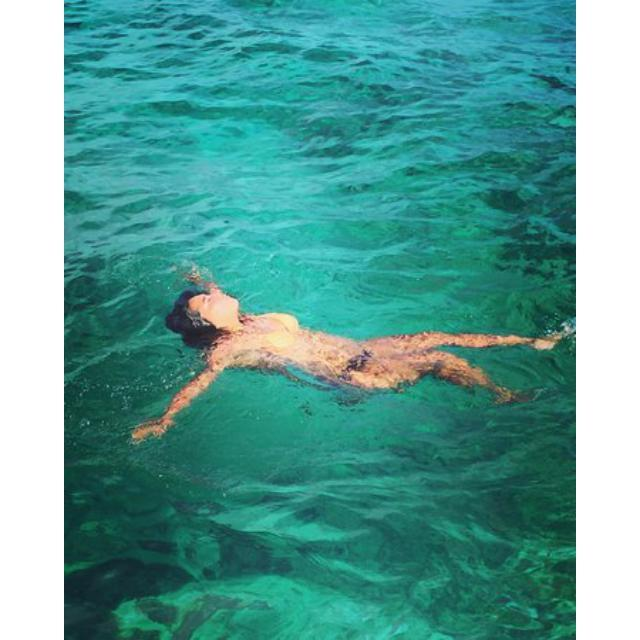human: (132, 268, 561, 447)
